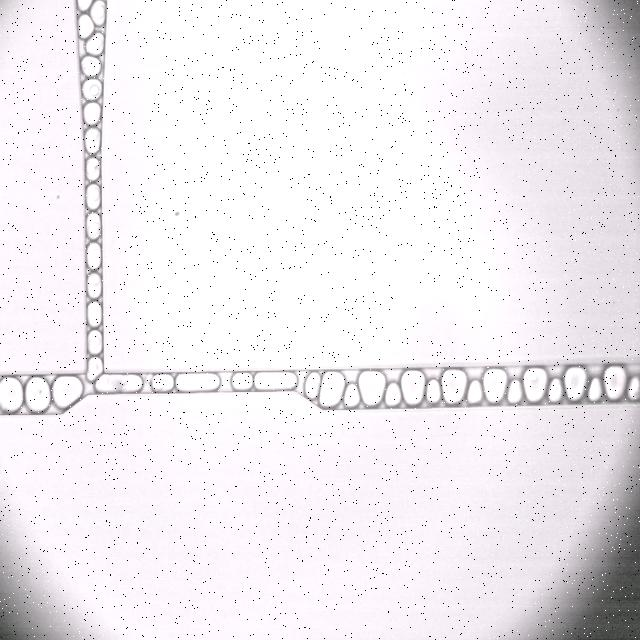L: (85, 32, 104, 55), (305, 373, 321, 399), (83, 103, 101, 125), (385, 382, 401, 406), (82, 56, 101, 76), (85, 128, 100, 153), (87, 358, 103, 381), (87, 213, 101, 239), (87, 243, 101, 269), (83, 80, 102, 99), (91, 1, 106, 25), (87, 302, 102, 326), (507, 380, 522, 404), (152, 374, 173, 391), (86, 184, 100, 209), (87, 273, 101, 298), (78, 15, 93, 38), (344, 384, 359, 407), (88, 330, 102, 354), (232, 373, 253, 389), (588, 377, 602, 401), (467, 381, 482, 403), (86, 157, 100, 180), (548, 379, 562, 402), (427, 379, 440, 403), (627, 376, 640, 400), (77, 0, 92, 11)
S: (53, 375, 83, 409), (358, 371, 385, 406), (319, 372, 344, 406), (442, 369, 467, 403), (26, 377, 50, 412), (401, 370, 425, 405), (96, 374, 142, 392), (483, 368, 507, 402), (523, 368, 547, 402), (0, 377, 23, 412), (603, 366, 626, 400), (255, 372, 297, 390), (564, 367, 586, 401), (176, 374, 219, 391)
